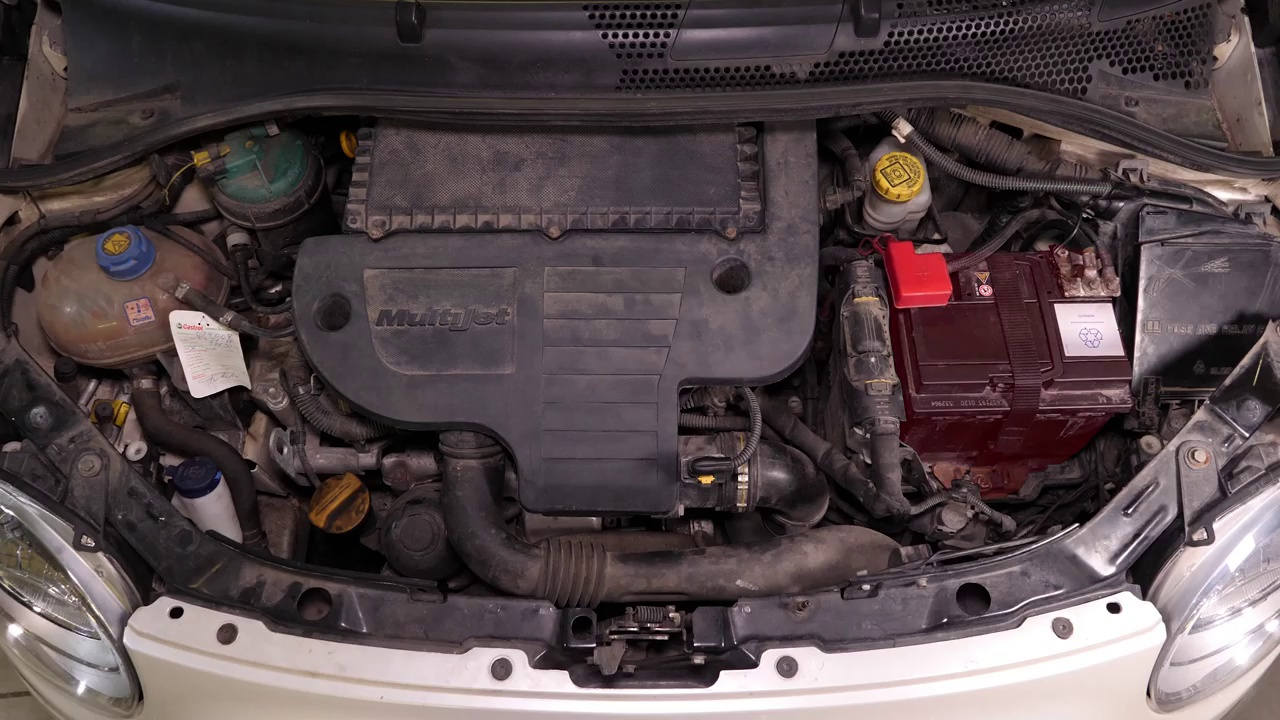battery: (871, 237, 1144, 437)
neg_connected: (1037, 217, 1131, 310)
pos_connected: (876, 213, 971, 312)
